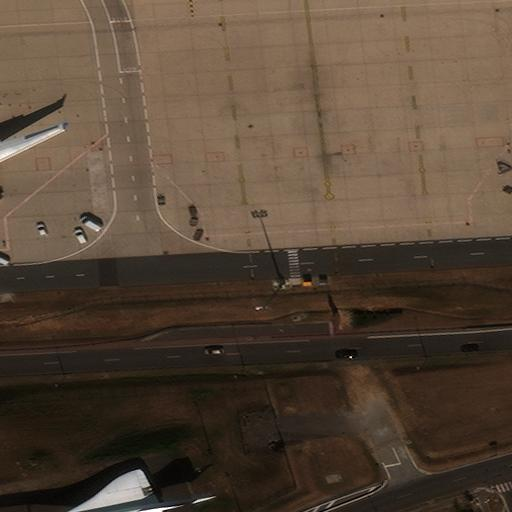Large Civil Transport: (0, 104, 66, 196)
Medium Civil Transport: (32, 468, 217, 511)
